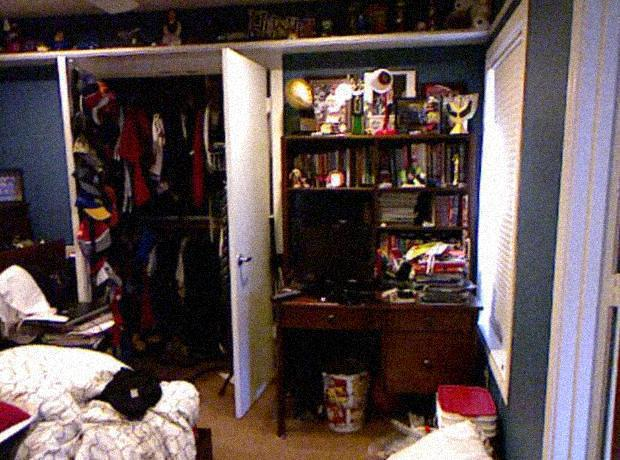Armario: (59, 52, 279, 414)
